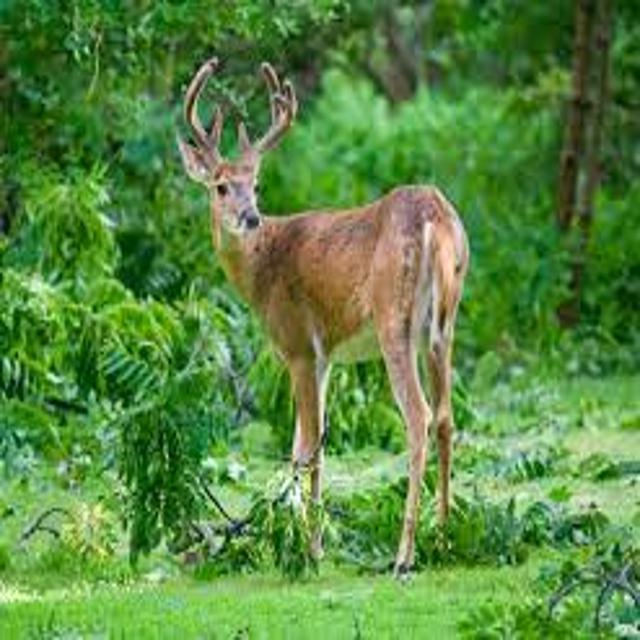Deer: (142, 66, 496, 574)
